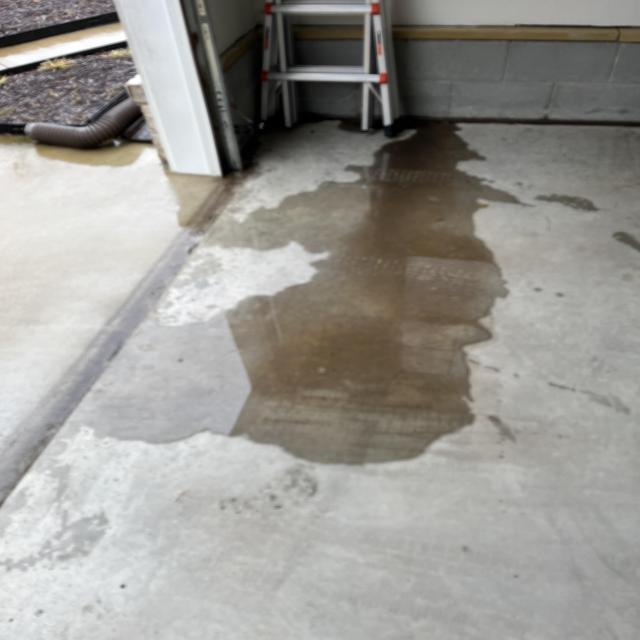water accumulation: (0, 116, 500, 464)
